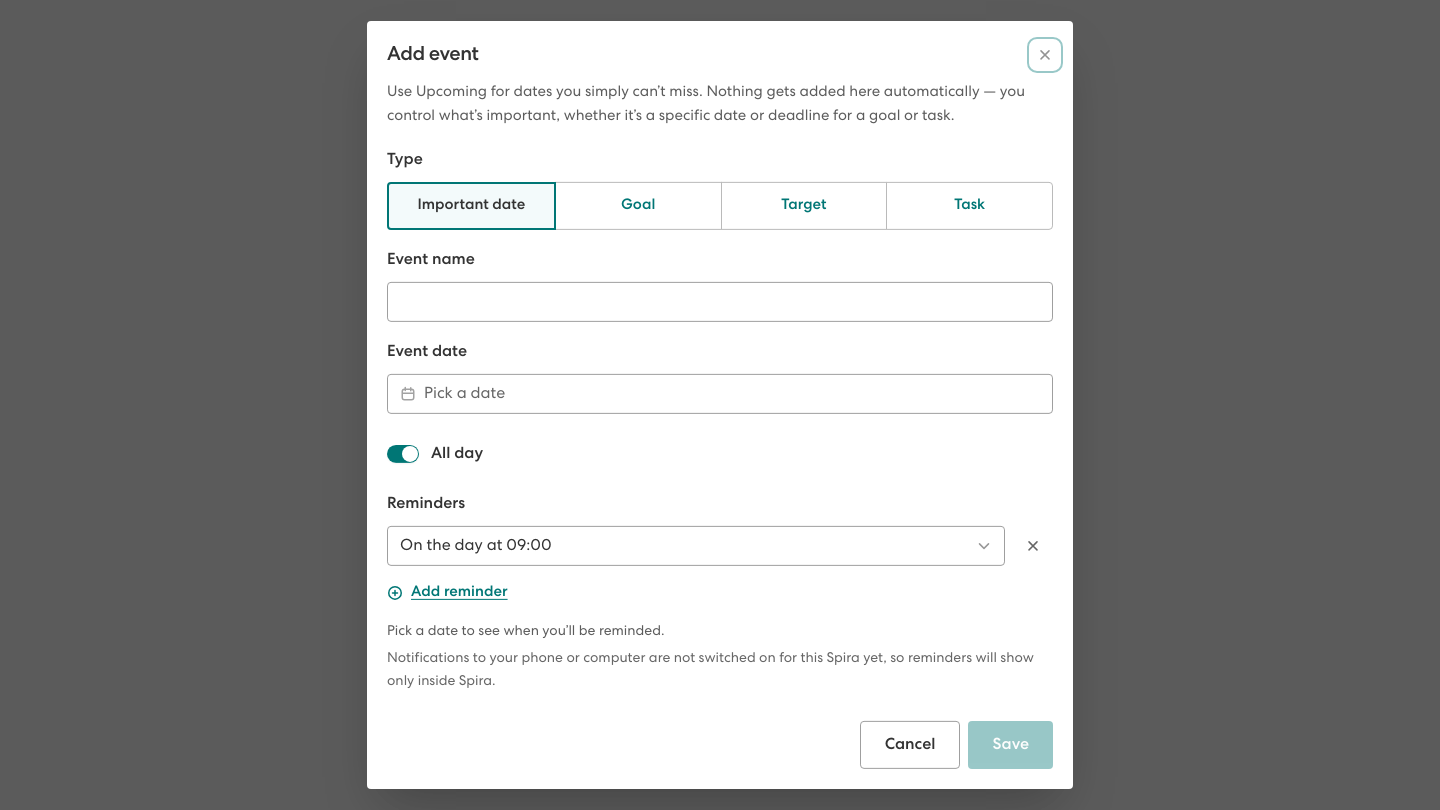
it: AddEventDialog (laptop) › offers only goals with a deadline that are not in Upcoming yet
What coordinates should you click on to do the following:
click the radio button labelled "Goal"
I would click on:
 (638, 206)
Its box is [555,182,722,230].
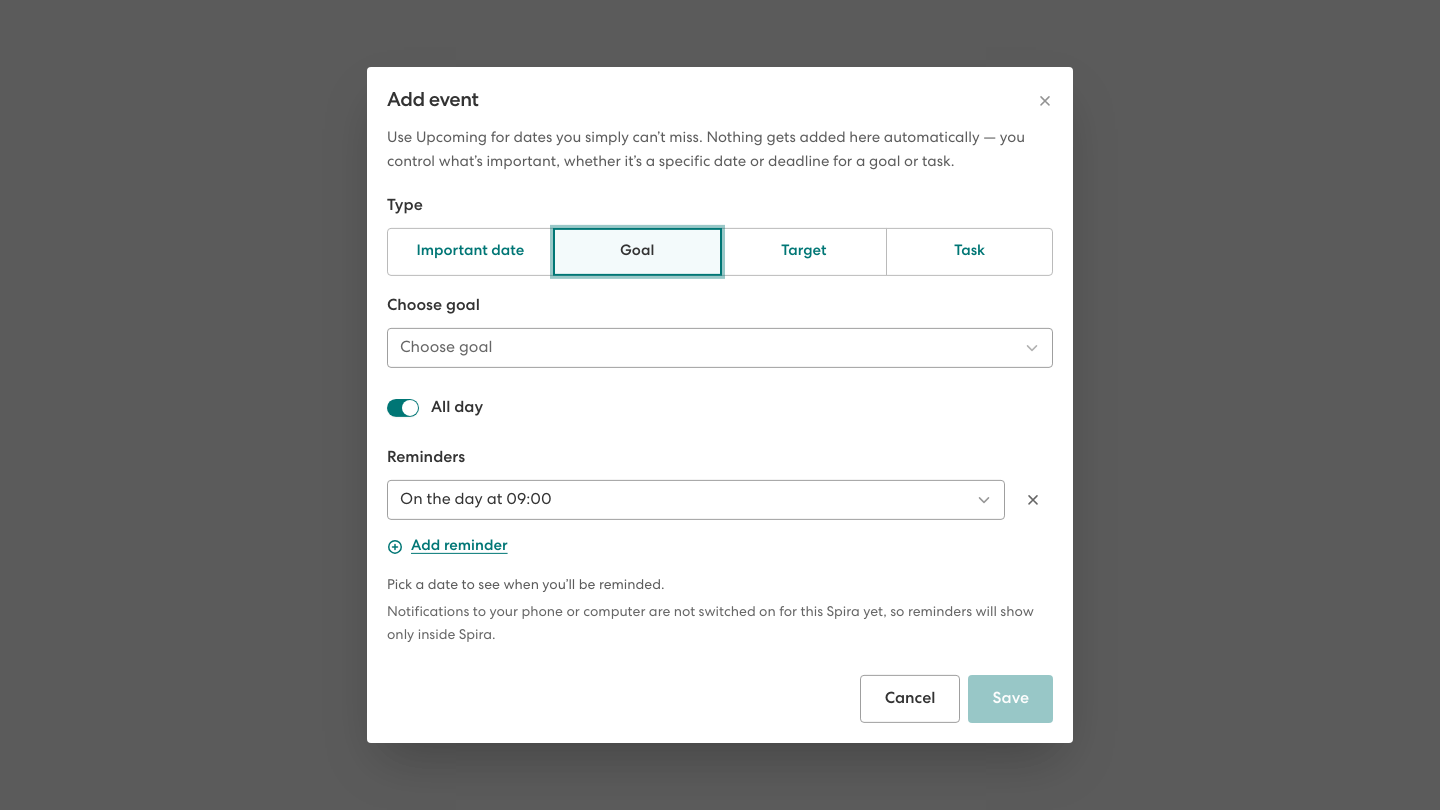
What coordinates should you click on to do the following:
click the dropdown labelled "Choose goal"
I would click on:
 (446, 348)
Its box is [387,328,1053,368].
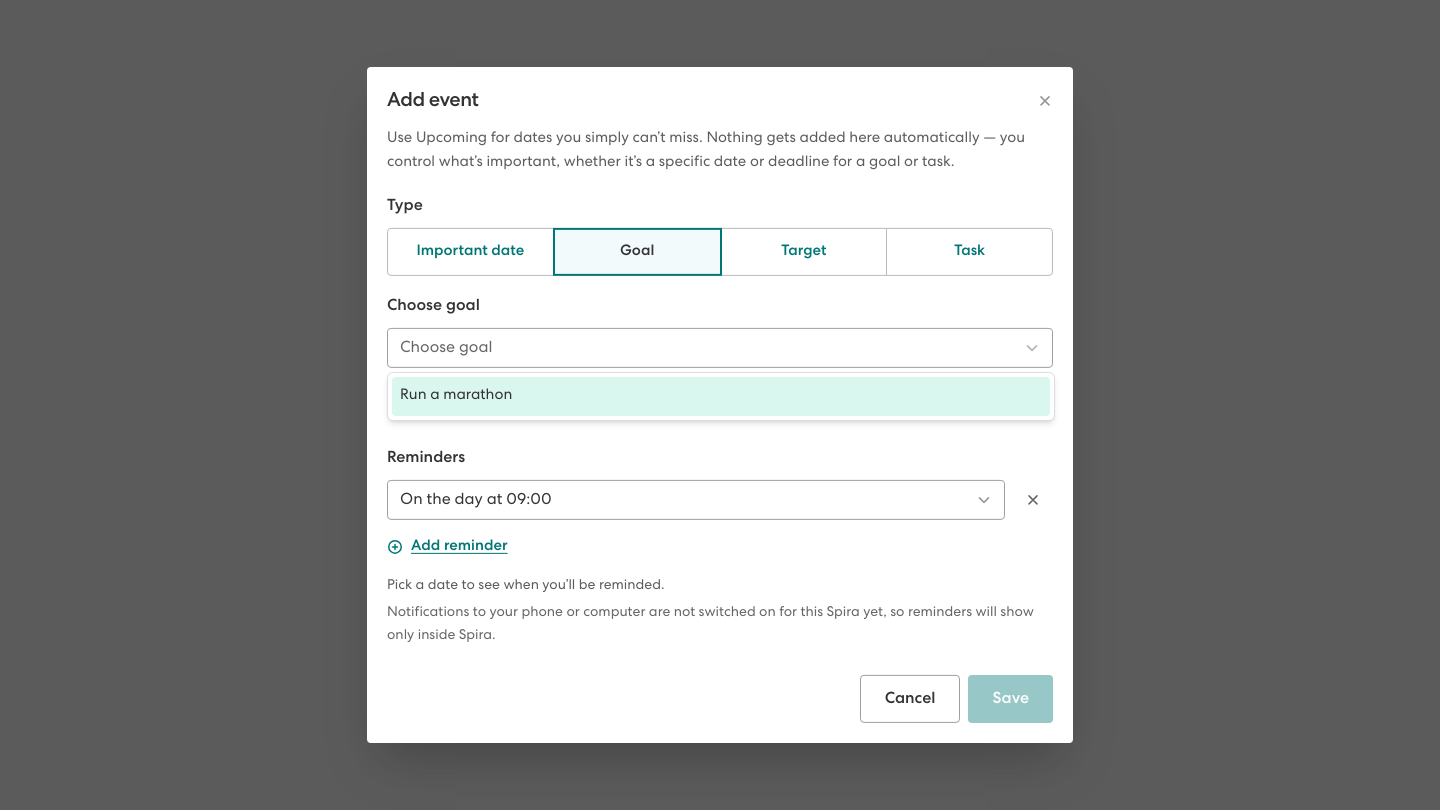
Now the options read "Run a marathon", in this order, box [392,377,1050,416]
